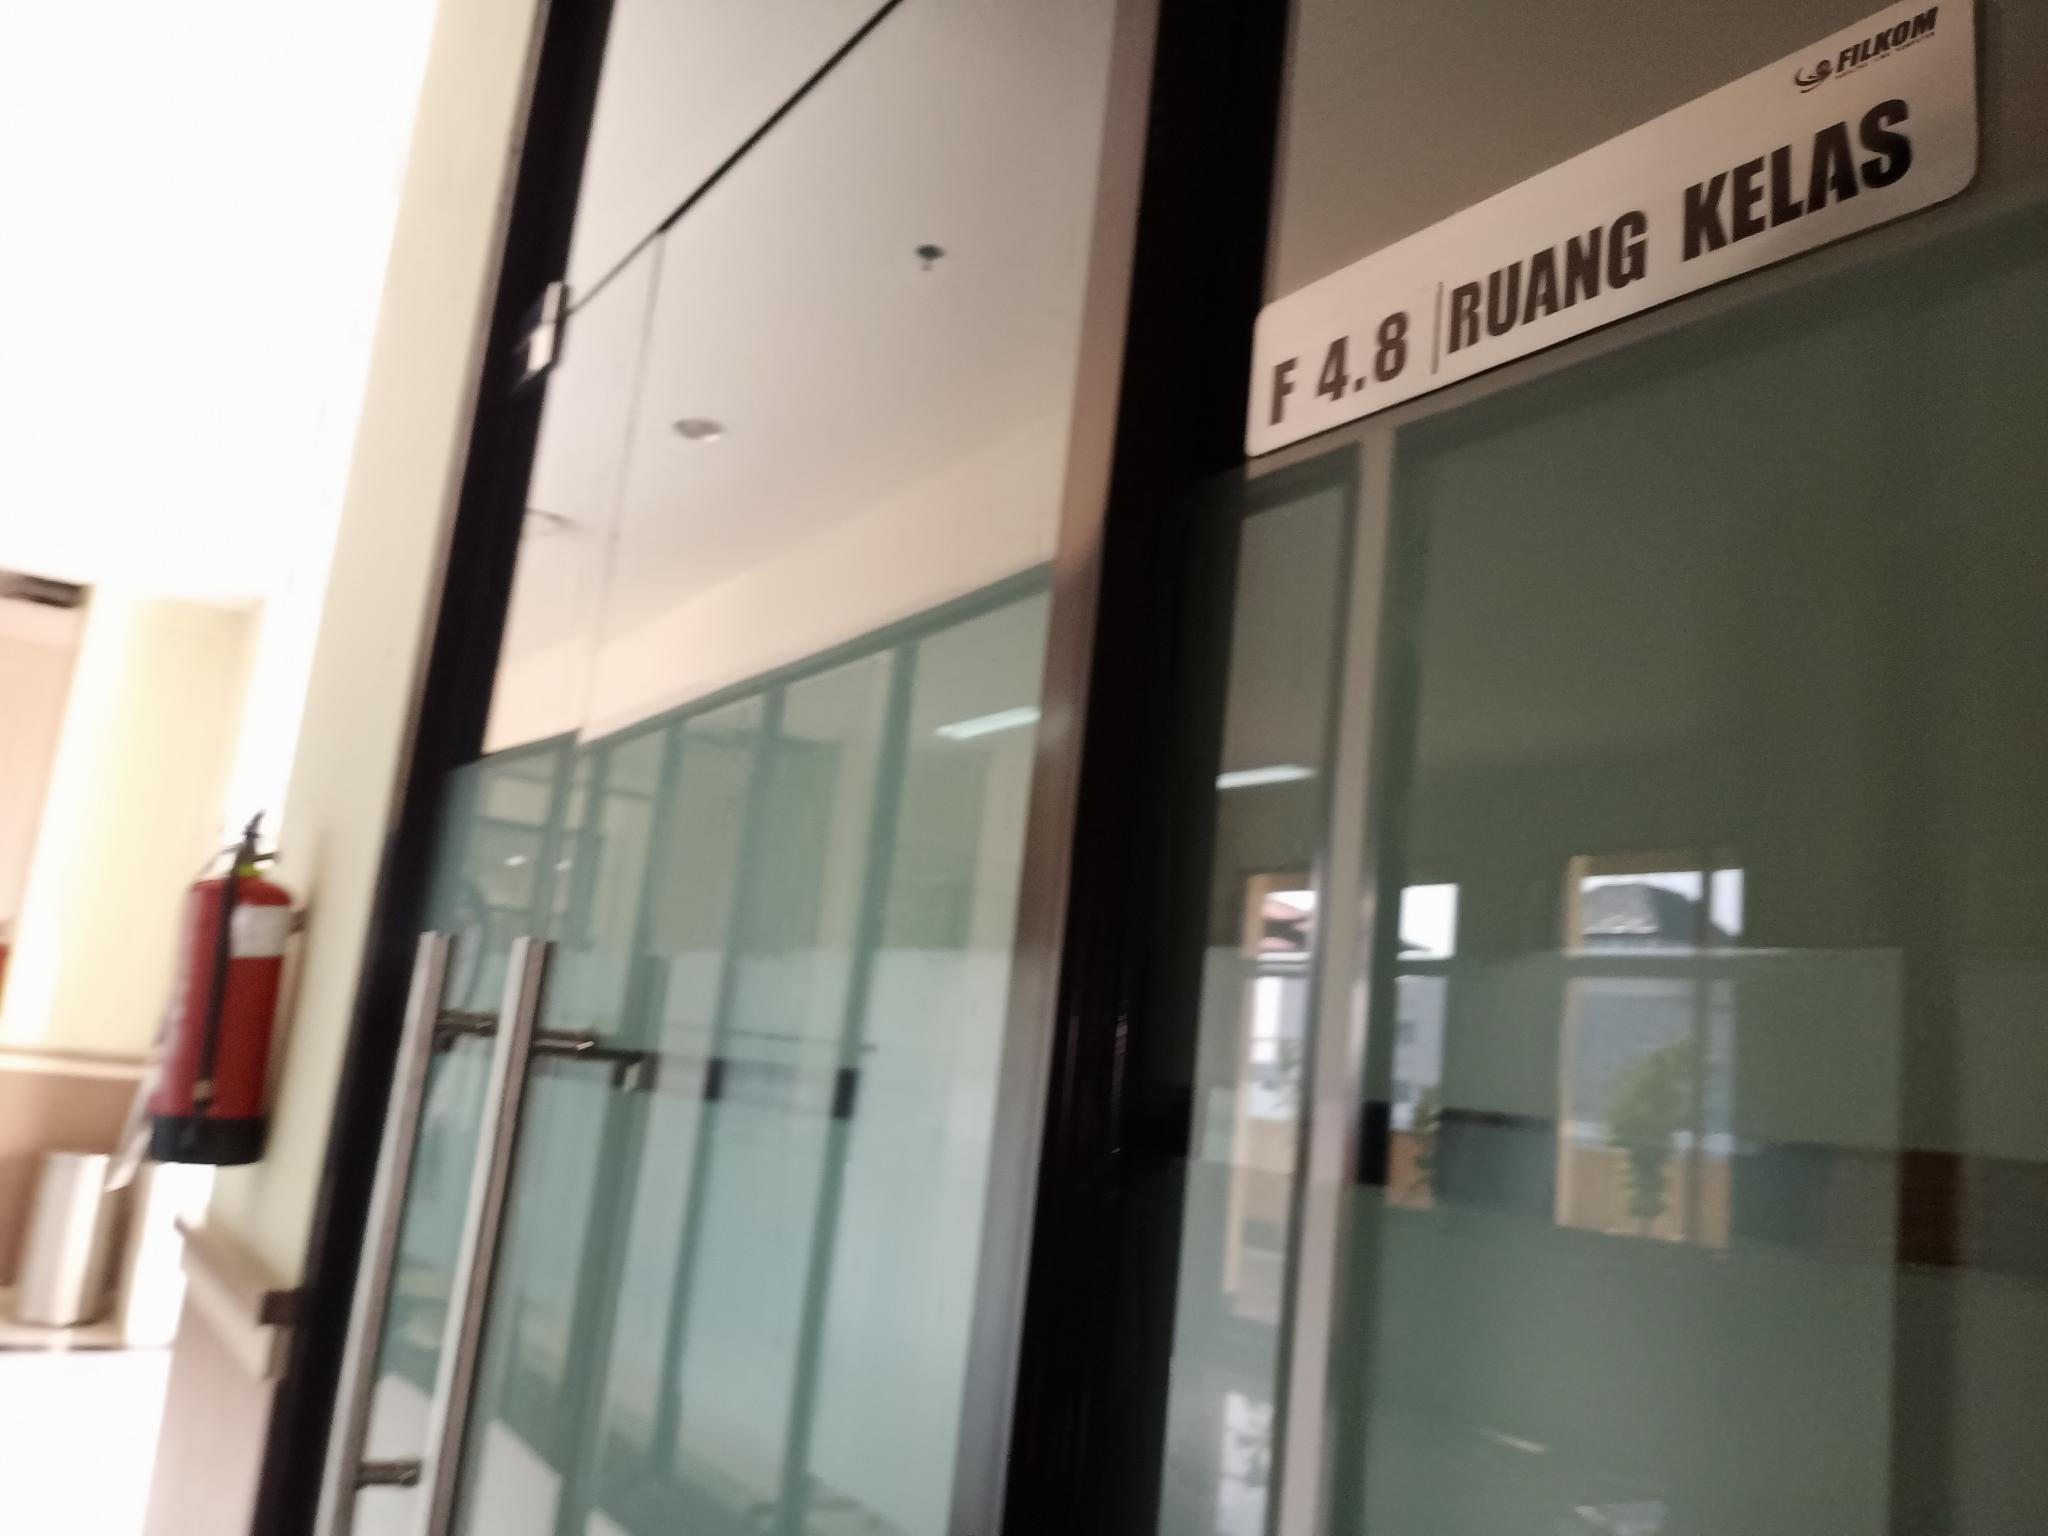plate: (1238, 0, 1982, 458)
